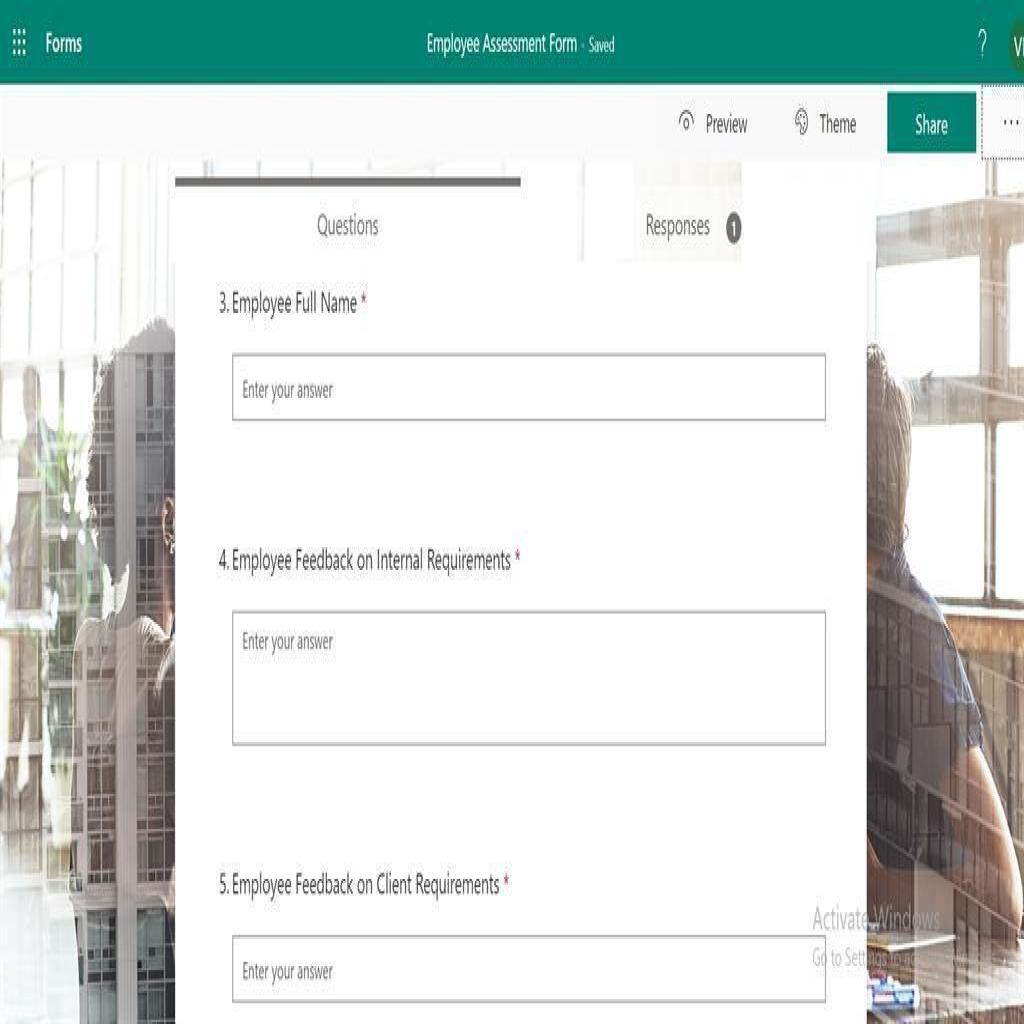button: (886, 96, 977, 154)
icon: (674, 104, 699, 143), (1001, 106, 1024, 141), (791, 102, 813, 136), (976, 19, 990, 66)
input: (232, 352, 827, 423), (232, 931, 824, 997)
label: (216, 541, 526, 582), (213, 866, 513, 904), (215, 278, 369, 325), (644, 208, 712, 242), (316, 214, 388, 244), (706, 106, 748, 141), (819, 110, 857, 137)
